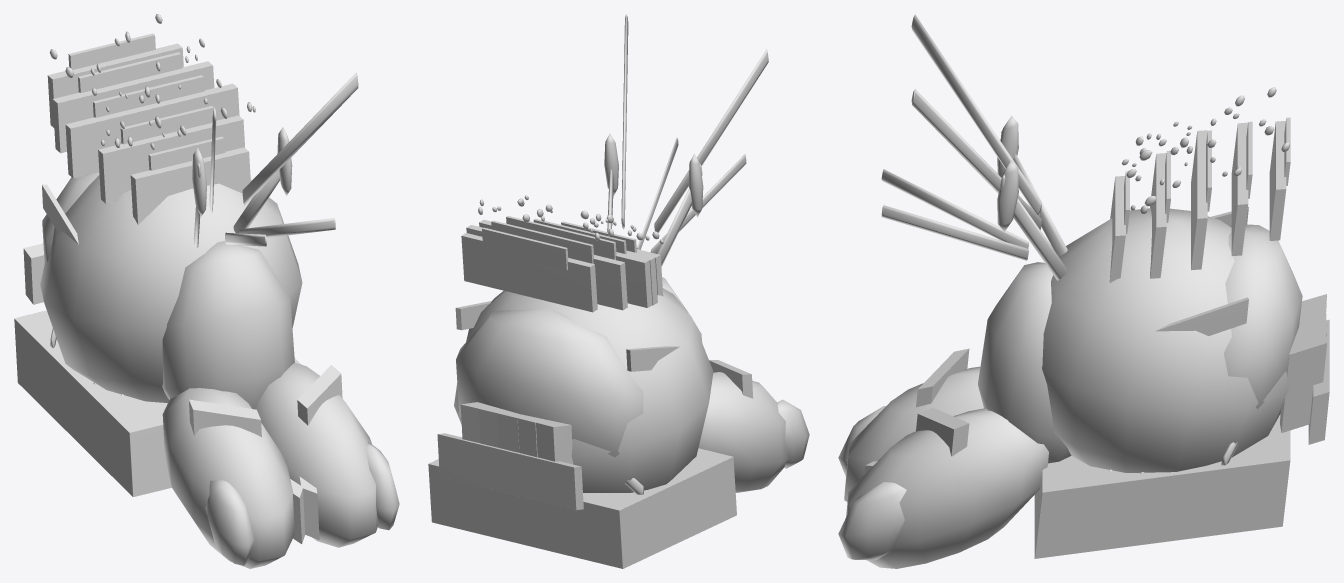
File: fallback_snap_back_v11_LOCKED_TEXTURE.obj
The picture shows the model from 3 angles, left to right: view 1: azimuth 30°, elevation 25°; view 2: azimuth 150°, elevation 25°; view 3: azimuth 270°, elevation 25°; orthographic projection. The views are drawn at different scales.
Parts seen in each view (by area): view 1: SnapBack_v10_LOCKED_WORKING_SIZE_Handle; view 2: SnapBack_v10_LOCKED_WORKING_SIZE_Handle; view 3: SnapBack_v10_LOCKED_WORKING_SIZE_Handle.
Boxes of the visible parts, x1,y1,x2,y2 form: SnapBack_v10_LOCKED_WORKING_SIZE_Handle: [14, 14, 399, 568]; SnapBack_v10_LOCKED_WORKING_SIZE_Handle: [428, 14, 809, 568]; SnapBack_v10_LOCKED_WORKING_SIZE_Handle: [838, 14, 1329, 568].
Bounding box in the file's own units: 0.00936 × 0.0181 × 0.0165.
Materials: 1 (1 with a texture image).
